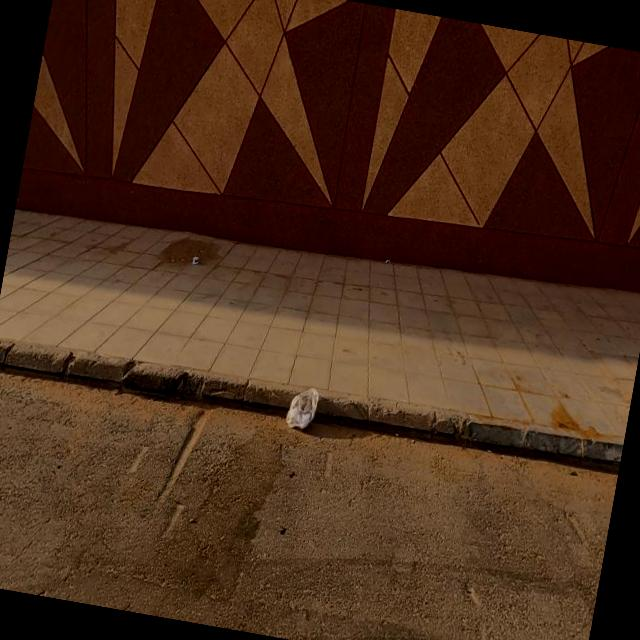debris: (218, 320, 368, 488), (167, 228, 224, 292)
